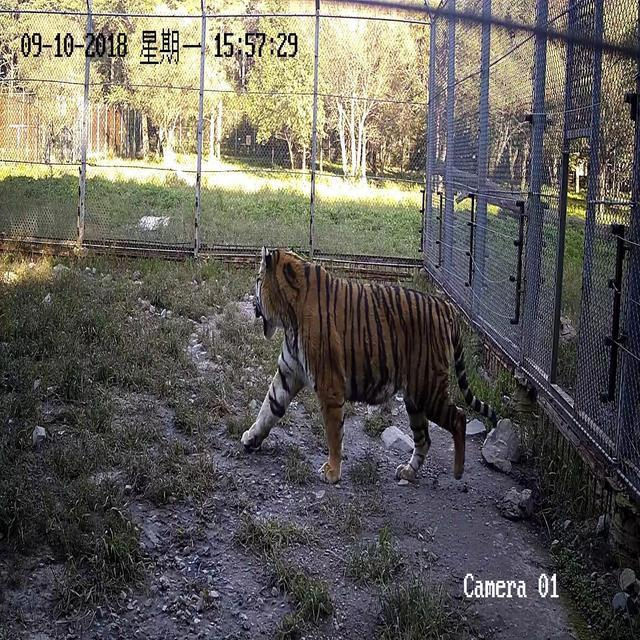tiger: (239, 245, 502, 484)
